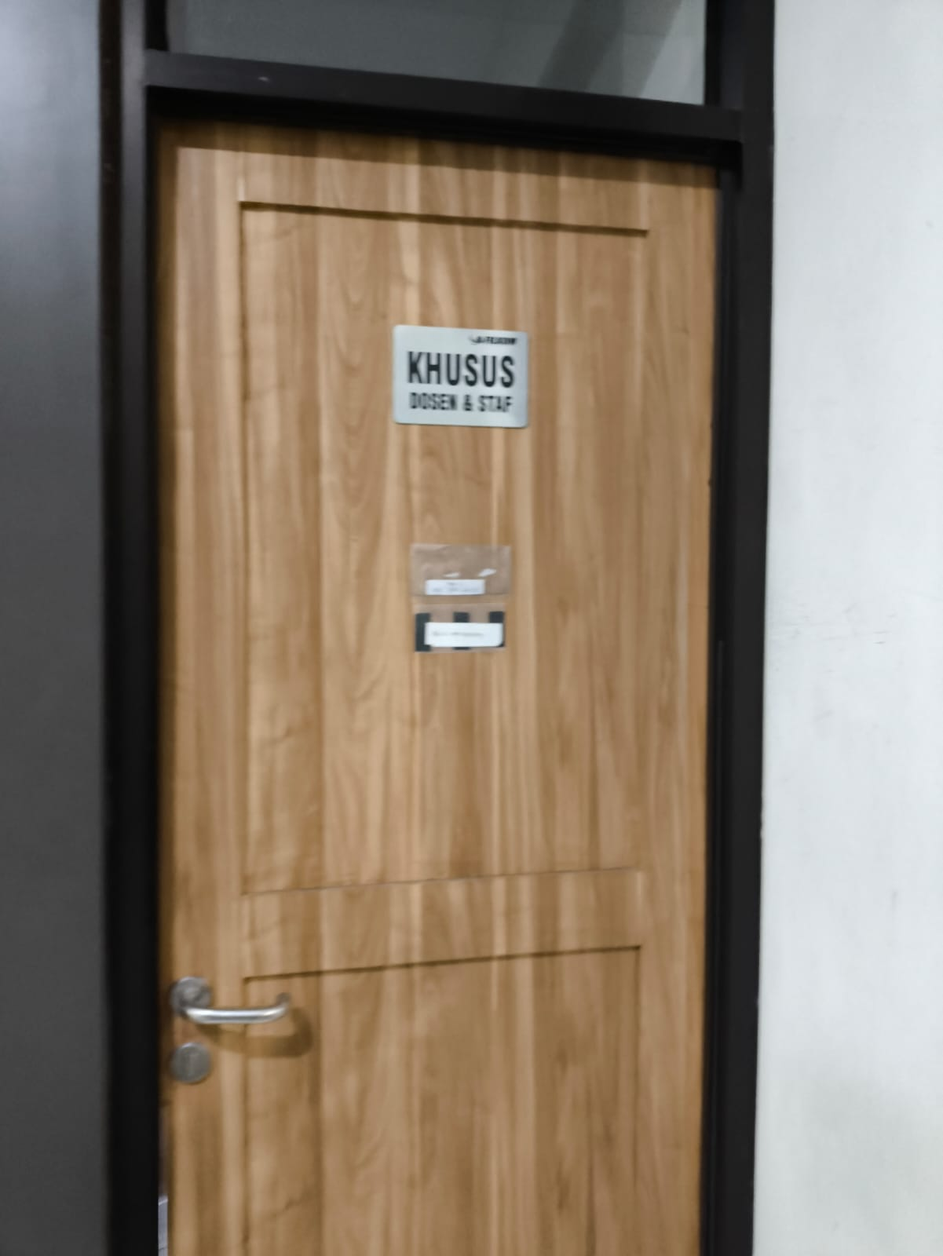ruang khusus dosen dan staff: (386, 319, 533, 432)
